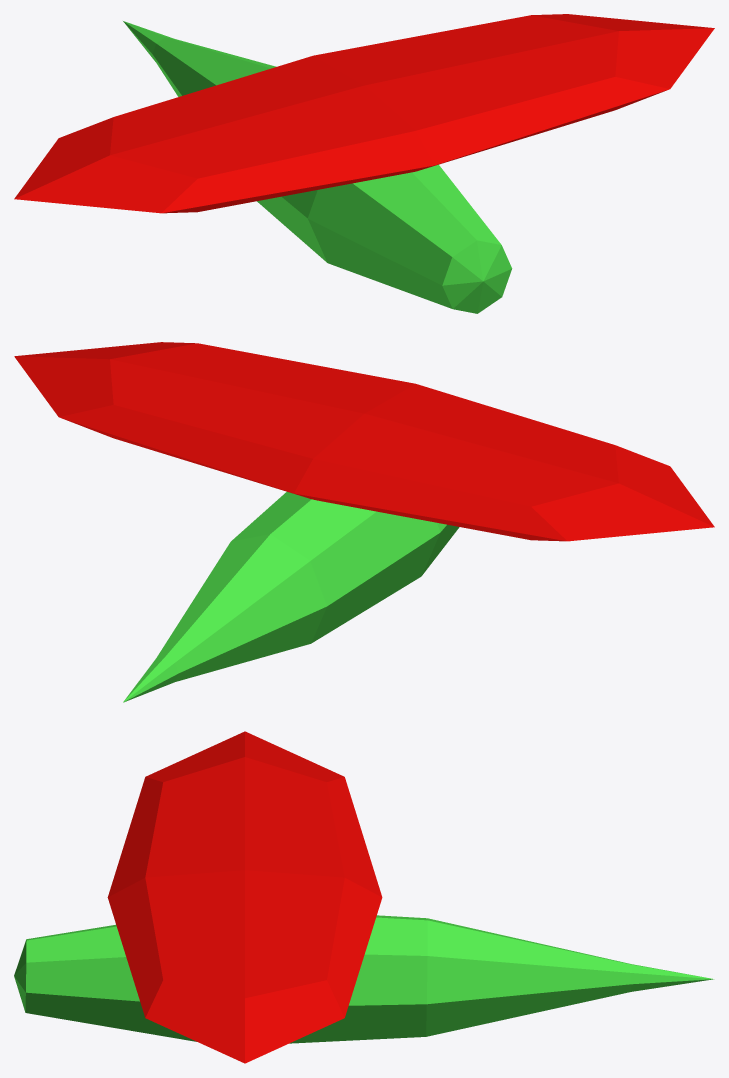
File: patataVoladora.gltf
3 renders of one model, top to bottom at view 1: azimuth 30°, elevation 25°; view 2: azimuth 150°, elevation 25°; view 3: azimuth 270°, elevation 25°, orthographic. The views are drawn at different scales.
Visible parts, largest first — view 1: Sphere; view 2: Sphere; view 3: Sphere.
Boxes of the visible parts, x1,y1,x2,y2 form: Sphere: (14,14,714,313); Sphere: (14,342,714,702); Sphere: (14,731,714,1063).
Bounding box in the file's own units: 4.81 × 1.17 × 4.28.
